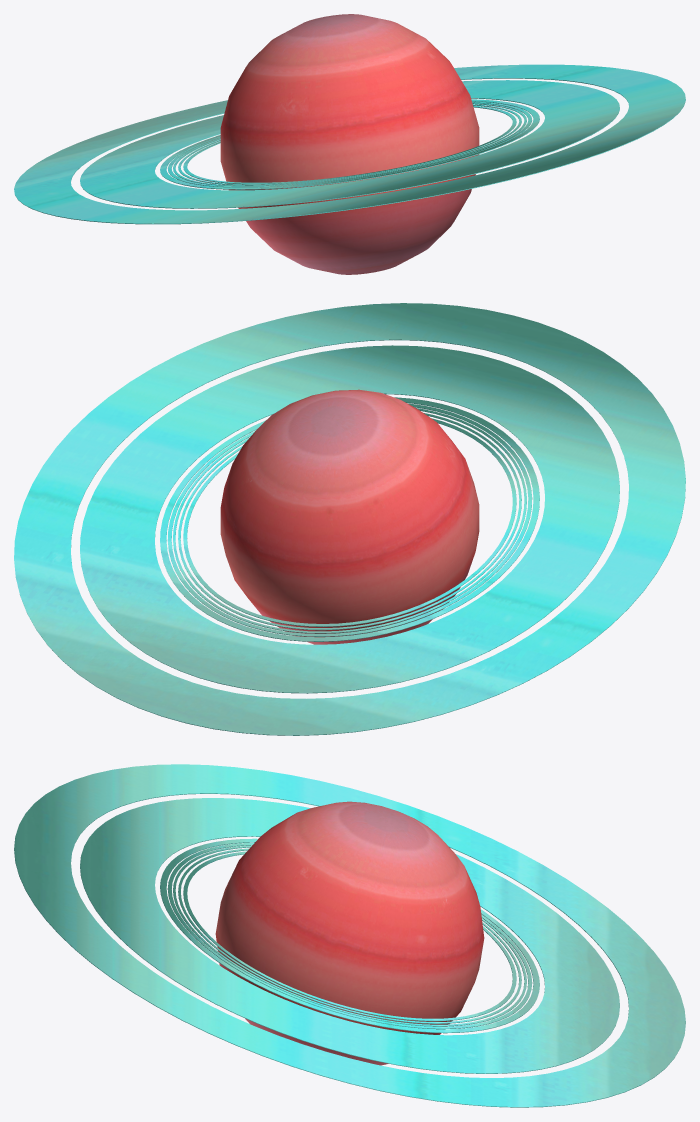
File: saturnV2.gltf
3 views of the same model, one above another, from view 1: azimuth 30°, elevation 25°; view 2: azimuth 150°, elevation 25°; view 3: azimuth 270°, elevation 25° (orthographic). The views are drawn at different scales.
Visible parts, largest first — view 1: Object_3, Object_4; view 2: Object_4, Object_3; view 3: Object_4, Object_3.
Boxes of the visible parts, x1=… form: Object_3: x1=220, y1=14, x2=479, y2=274; Object_4: x1=14, y1=64, x2=685, y2=224; Object_4: x1=14, y1=303, x2=685, y2=735; Object_3: x1=220, y1=389, x2=479, y2=644; Object_4: x1=14, y1=764, x2=685, y2=1107; Object_3: x1=215, y1=801, x2=484, y2=1065.
Size of the model in its own units: 520 by 200 by 500.
2 materials, 2 textured.
